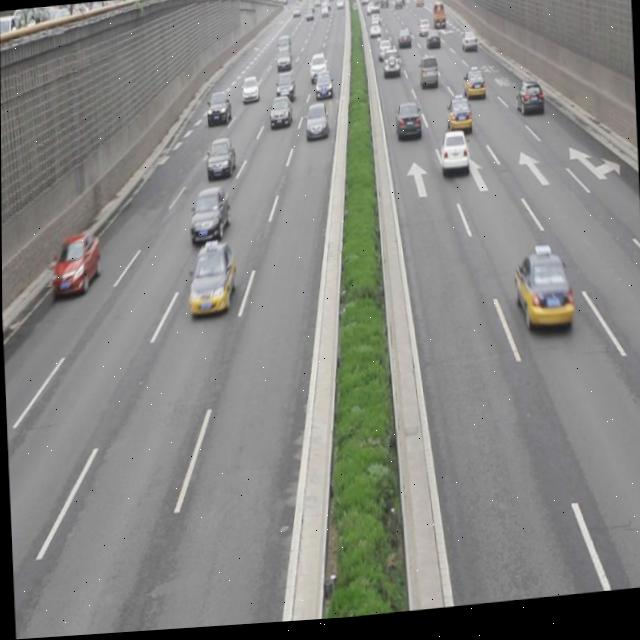car: (513, 252, 571, 340), (187, 245, 235, 319), (52, 233, 99, 294), (186, 188, 228, 246), (438, 136, 468, 180), (203, 140, 234, 182), (513, 85, 541, 124), (444, 101, 470, 140), (393, 107, 419, 144), (205, 91, 231, 128), (303, 105, 327, 142), (267, 99, 291, 136), (462, 73, 484, 106)
